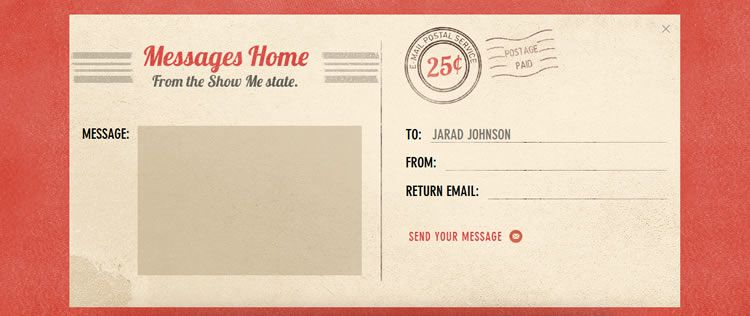_form_: (24, 1, 441, 316), (271, 1, 687, 316)
field: (135, 123, 362, 277)
field_line: (427, 124, 666, 144), (441, 154, 668, 173), (484, 183, 667, 201)
field_with_label: (402, 122, 669, 145), (406, 151, 672, 174), (407, 180, 668, 203)
